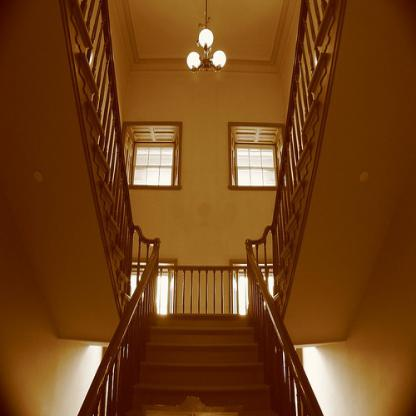stairs: (156, 327, 253, 416)
